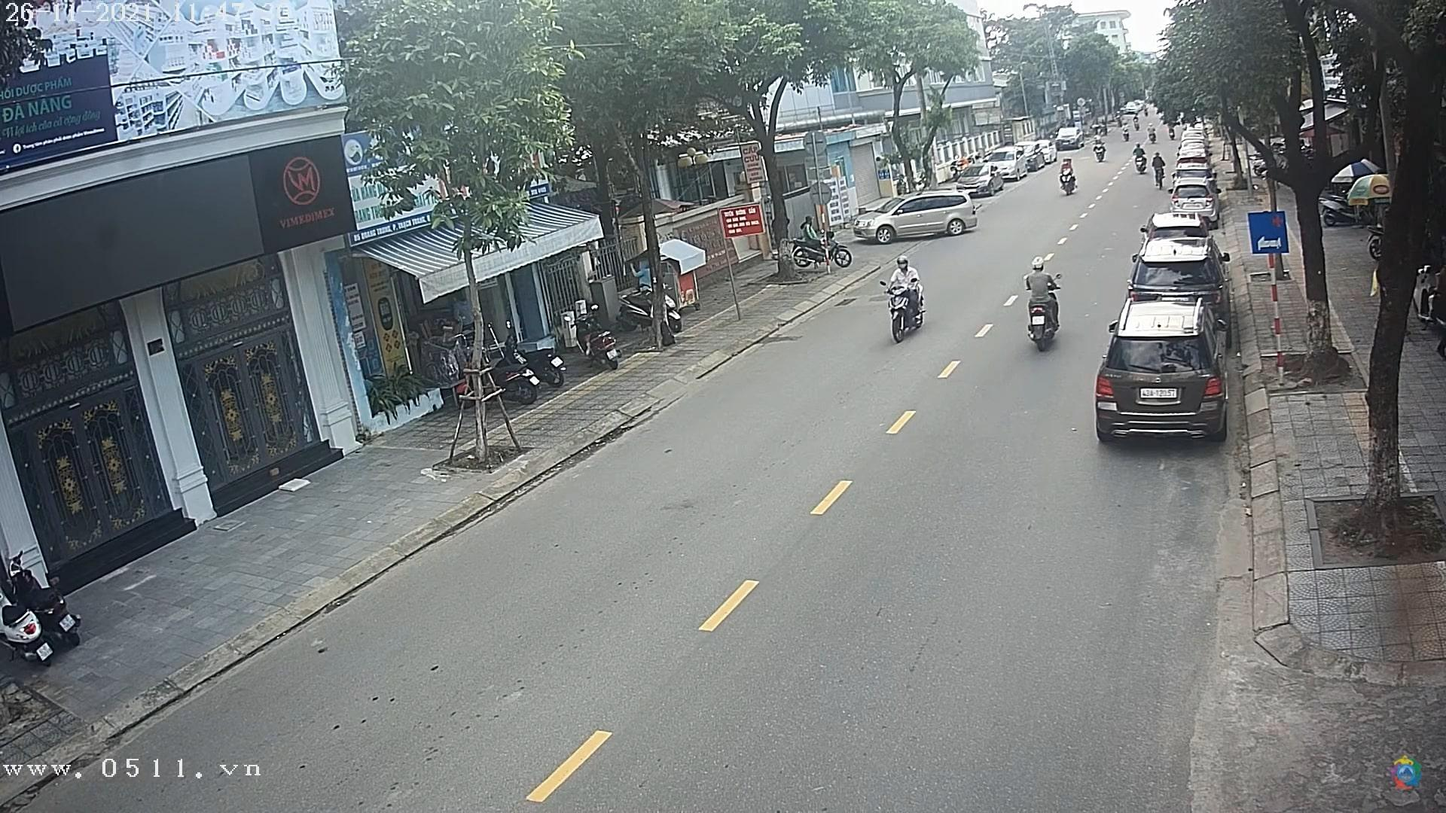car: (852, 192, 979, 245), (958, 143, 1045, 186), (957, 160, 1009, 197), (1057, 125, 1086, 149)
motorbike: (889, 285, 927, 338), (1059, 168, 1078, 196)
